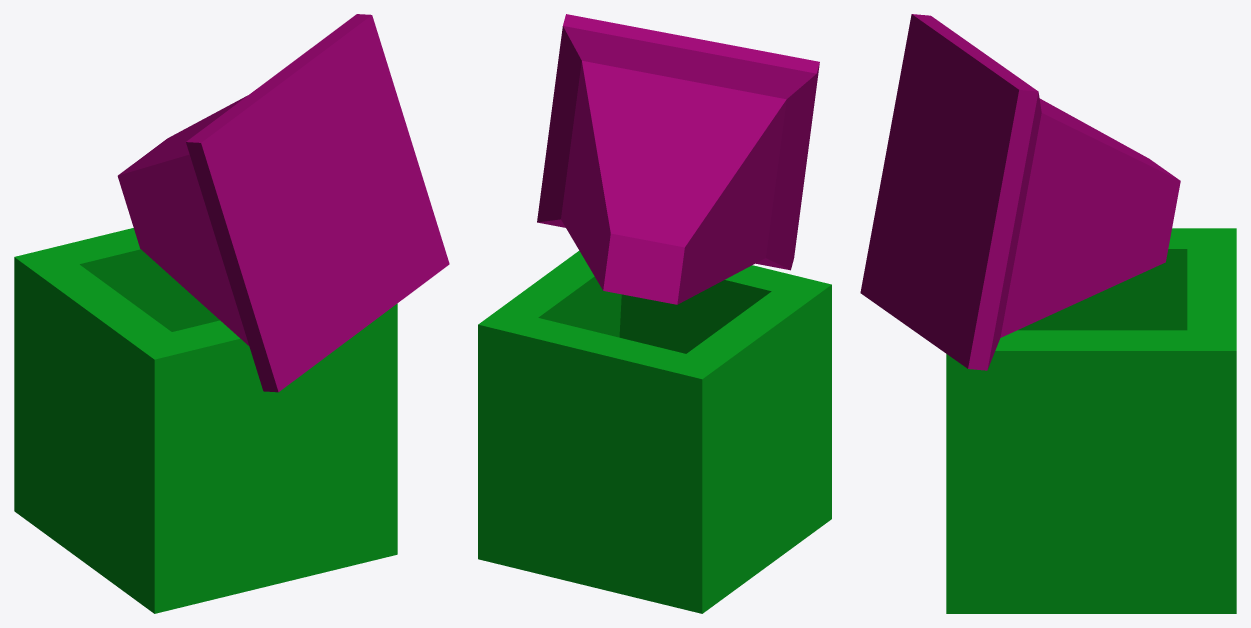
Rendered from AnimatedBox_000135.obj.
3 renders of one model, left to right at view 1: azimuth 30°, elevation 25°; view 2: azimuth 150°, elevation 25°; view 3: azimuth 270°, elevation 25°, orthographic. The views are drawn at different scales.
Parts seen in each view (by area): view 1: Cube, Cube.001; view 2: Cube, Cube.001; view 3: Cube, Cube.001.
Part boxes in pixels (left/top/right/bottom): Cube: left=14, top=228, right=397, bottom=613; Cube.001: left=117, top=14, right=449, bottom=392; Cube: left=478, top=250, right=831, bottom=613; Cube.001: left=537, top=14, right=819, bottom=304; Cube: left=946, top=228, right=1236, bottom=613; Cube.001: left=860, top=14, right=1180, bottom=370.
Size of the model in its own units: 2.52 by 4.02 by 2.59.
